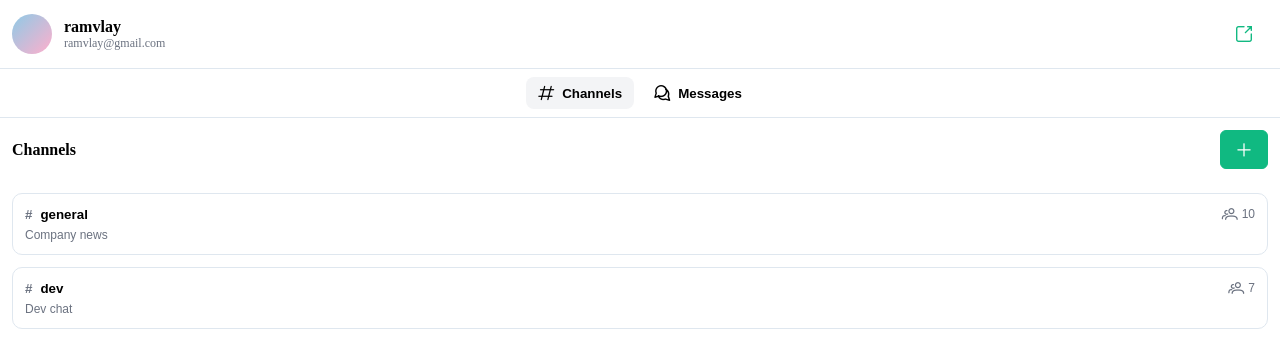
Test case: Sidebar › should show empty state when no direct messages are available
Click the button with test id "messages-button" at (698, 93), box [642,77,754,109]
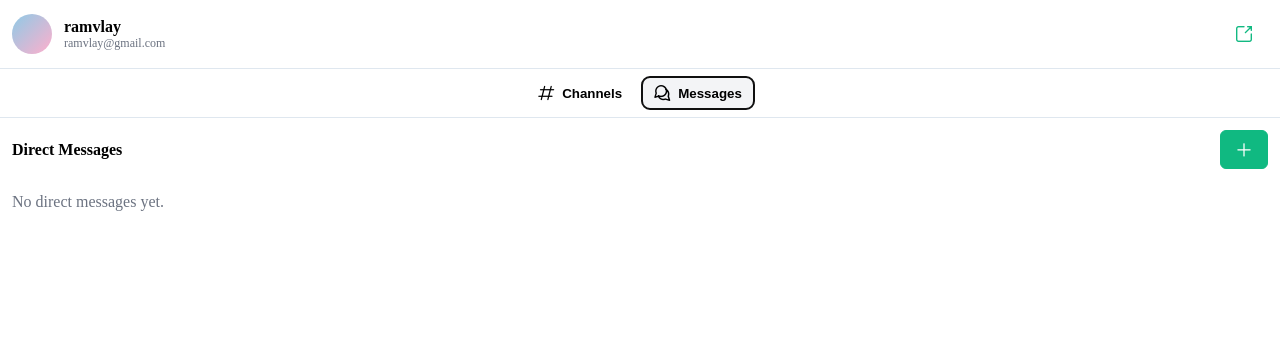
Check: the text with test id "noMessages-label" reads "No direct messages yet.", box [12,193,164,210]
